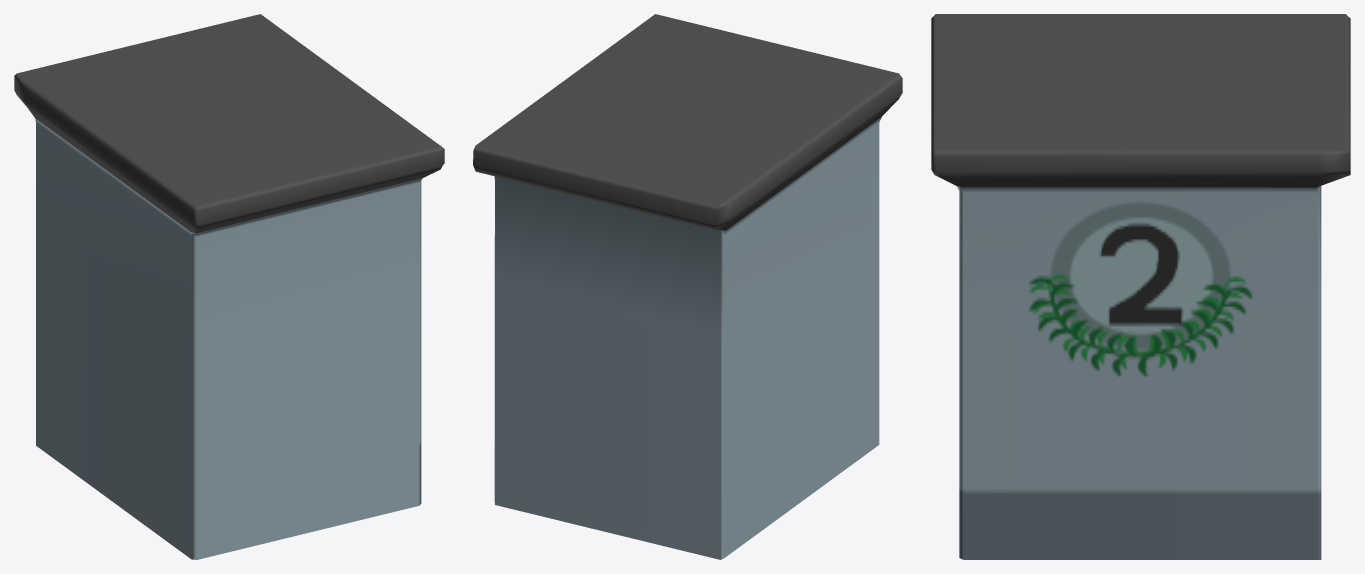
Rendered from pod2.fbx.
3 views of the same model, side by side, from view 1: azimuth 30°, elevation 25°; view 2: azimuth 150°, elevation 25°; view 3: azimuth 270°, elevation 25° (orthographic). The views are drawn at different scales.
Parts seen in each view (by area): view 1: polySurface1; view 2: polySurface1; view 3: polySurface1.
Part boxes in pixels (box(x1,y1,x2,y2)): polySurface1: box(14, 14, 444, 559); polySurface1: box(473, 14, 902, 559); polySurface1: box(931, 14, 1350, 559).
Size of the model in its own units: 1.1 by 1.52 by 1.39.
1 material, 1 textured.
